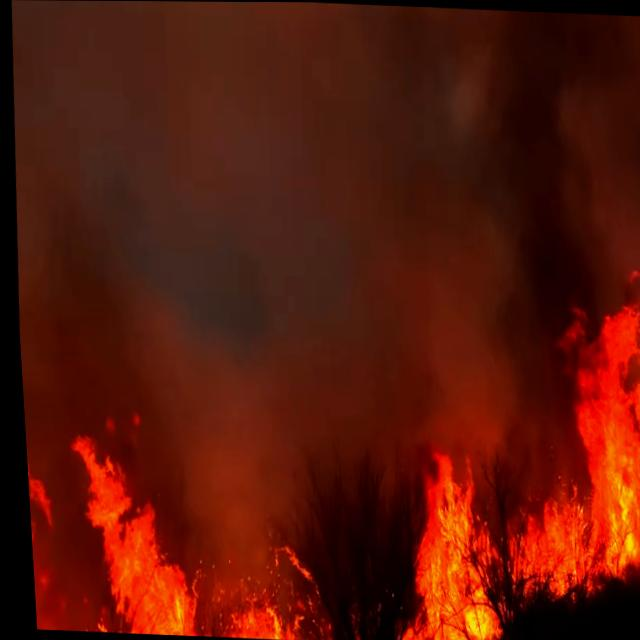fire: (522, 231, 640, 594), (37, 425, 214, 636), (374, 453, 499, 640)
smoke: (484, 9, 640, 233)
